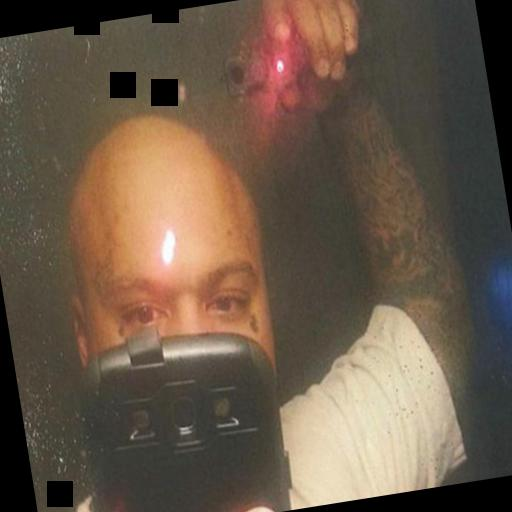Handgun: (210, 10, 364, 100)
